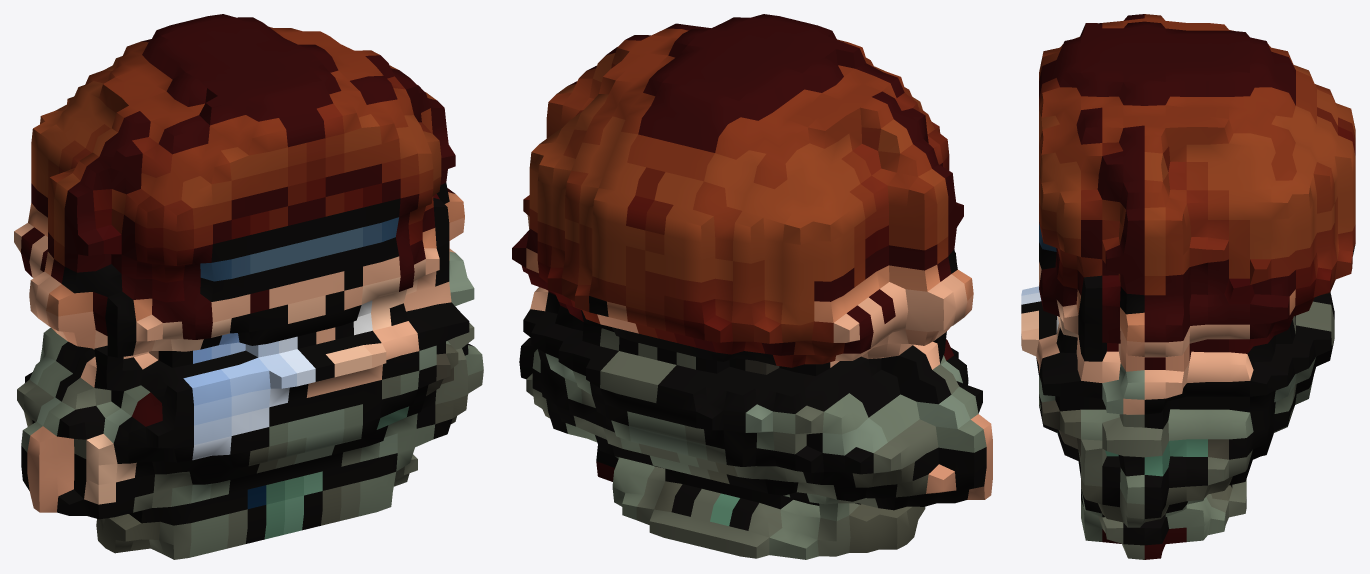
File: Icon_105_02.obj
3 renders of one model, left to right at view 1: azimuth 30°, elevation 25°; view 2: azimuth 150°, elevation 25°; view 3: azimuth 270°, elevation 25°, orthographic. The views are drawn at different scales.
Size of the model in its own units: 2.4 by 2.3 by 1.58.
1 material, 1 textured.
